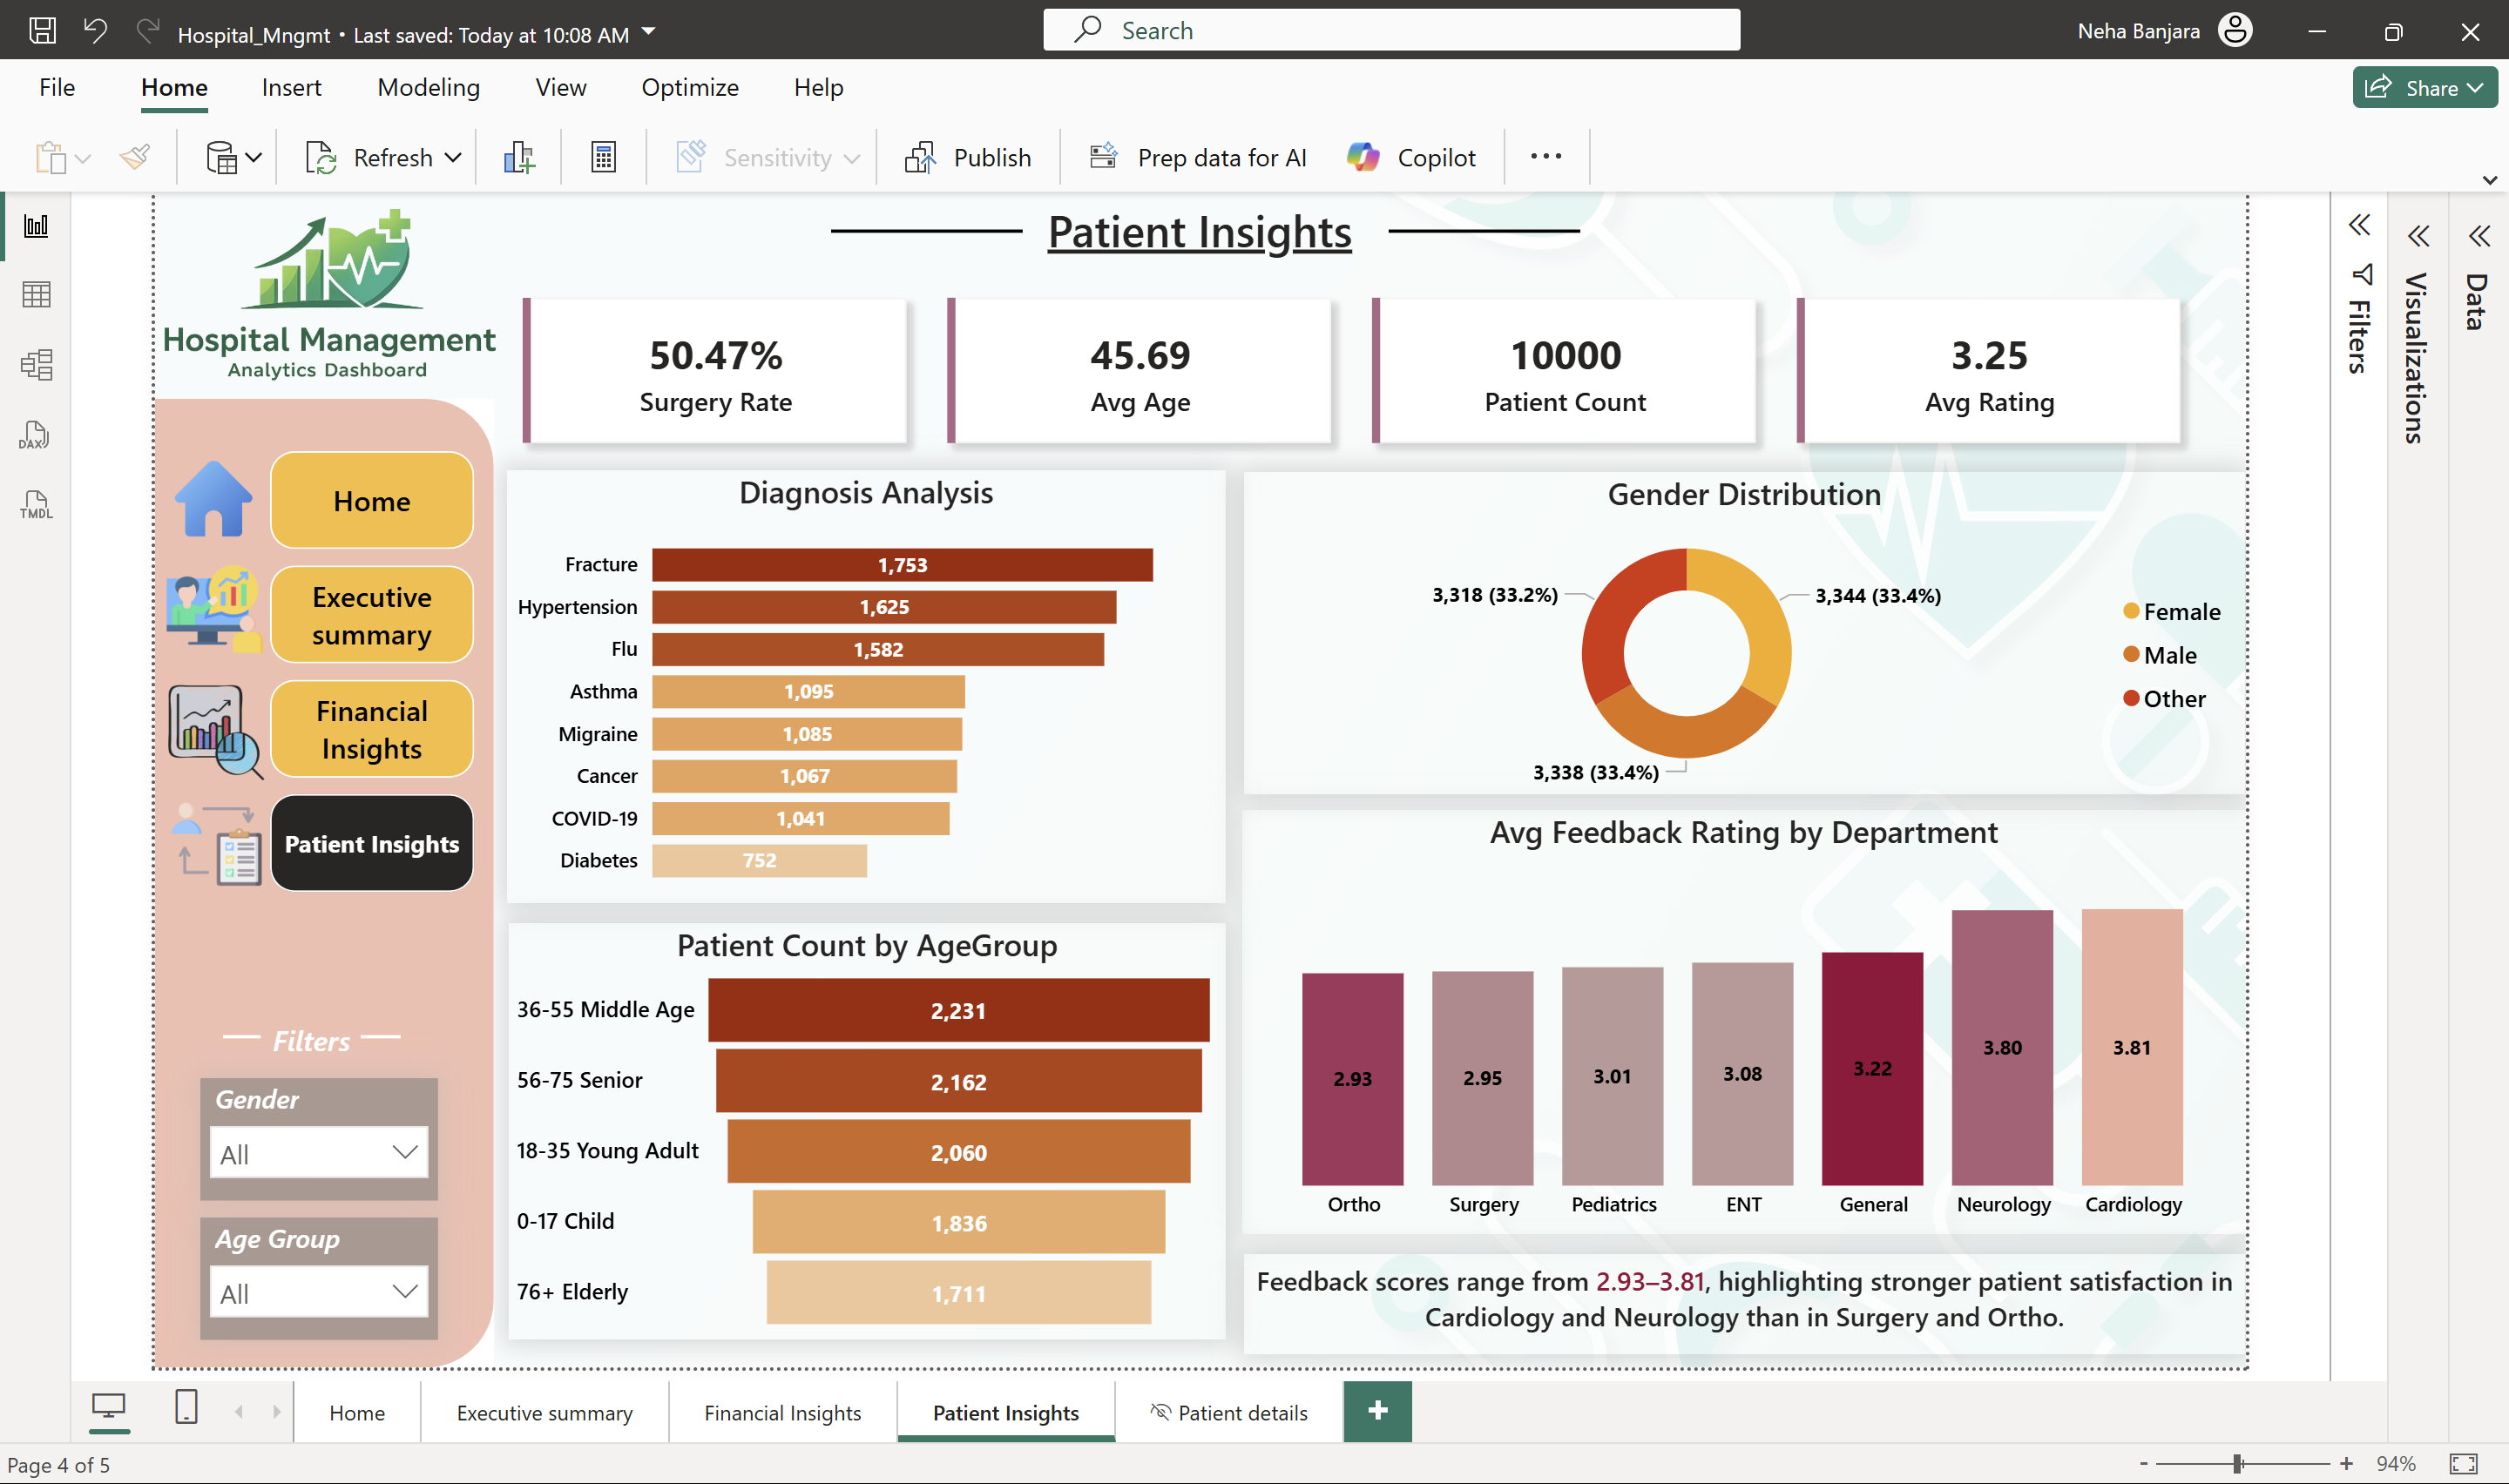

This screenshot's page, from the dashboard's own definition file:
{"tool":"powerbi","page":{"name":"Patient Insights","canvas":[1280,720],"ordinal":3},"visuals":[{"type":"clusteredBarChart","title":"Diagnosis Analysis","fields":{"Category":["hospital_management.Diagnosis"],"Y":["Measures_table.Patient Count"]},"box":[215.5,170.8,439.8,265.2],"z":0},{"type":"shape","box":[0,126.7,207.4,593.3],"z":1000,"group":"g3"},{"type":"columnChart","title":"Avg Feedback Rating by Department","fields":{"Category":["hospital_management.Department"],"Y":["Avg(hospital_management.FeedbackRating)"]},"box":[665.5,378.6,614.5,260.1],"z":2000},{"type":"slicer","fields":{"Values":["hospital_management.AgeGroup"]},"box":[27.4,627.8,145.4,74.9],"z":3000,"group":"g3"},{"type":"slicer","fields":{"Values":["hospital_management.Gender"]},"box":[27.4,542.9,145.4,74.9],"z":4000,"group":"g3"},{"type":"cardVisual","fields":{"Data":["Measures_table.Surgery Rate","Measures_table.Average Age","Measures_table.Patient Count","Avg(hospital_management.FeedbackRating)"]},"box":[207.8,48.4,1049.2,123.7],"z":5000},{"type":"funnel","fields":{"Category":["hospital_management.AgeGroup"],"Y":["Measures_table.Patient Count"]},"box":[216,447.8,439.2,254.9],"z":6000},{"type":"group","id":"g1","title":"Group 2","box":[1.4,158.4,194.4,270.7],"z":7000,"group":"g3"},{"type":"textbox","box":[264.9,0,750.2,64.8],"z":8000},{"type":"shape","box":[20.2,501.5,151.2,36],"z":8000,"group":"g2"},{"type":"donutChart","title":"Gender Distribution","fields":{"Category":["hospital_management.Gender"],"Y":["Measures_table.Patient Count"]},"box":[666.8,172.1,613.2,197.6],"z":9000},{"type":"textbox","box":[666.5,651,613.1,61.4],"z":10000},{"type":"image","box":[0,0,216,122.4],"z":11000},{"type":"shape","box":[754.7,0,117.3,48.4],"z":12000},{"type":"shape","box":[414.3,0,117.3,48.4],"z":13000},{"type":"pageNavigator","box":[70.5,158.4,125.3,270.7],"z":13000,"group":"g1"},{"type":"image","box":[1.4,226.1,70.6,59],"z":14000,"group":"g1"},{"type":"group","id":"g2","title":"Group 1","box":[20.2,498.2,151.2,39.3],"z":14000,"group":"g3"},{"type":"group","id":"g3","title":"Group 3","box":[0,126.7,207.4,593.3],"z":14001},{"type":"image","box":[2.8,164.2,67.7,47.5],"z":15000,"group":"g1"},{"type":"image","box":[2.8,370.1,70.6,59],"z":16000,"group":"g1"},{"type":"image","box":[2.8,301,70.6,59],"z":17000,"group":"g1"},{"type":"shape","box":[125.3,498.2,24.5,38.9],"z":19000,"group":"g2"},{"type":"shape","box":[41.8,498.2,23,38.9],"z":20000,"group":"g2"}]}

Visuals, with their boxes on the page's 1280x720 design canvas (x1, y1, x2, y2). These are canvas units, not pixel positions in the 2509x1484 screenshot, which may show the page scaled, cropped or inside an application window:
"Diagnosis Analysis" clusteredBarChart: <bbox>216, 171, 655, 436</bbox>
shape: <bbox>0, 127, 207, 720</bbox>
"Avg Feedback Rating by Department" columnChart: <bbox>666, 379, 1280, 639</bbox>
slicer - hospital_management.AgeGroup: <bbox>27, 628, 173, 703</bbox>
slicer - hospital_management.Gender: <bbox>27, 543, 173, 618</bbox>
cardVisual - Measures_table.Surgery Rate x Measures_table.Average Age: <bbox>208, 48, 1257, 172</bbox>
funnel - hospital_management.AgeGroup x Measures_table.Patient Count: <bbox>216, 448, 655, 703</bbox>
"Group 2" group: <bbox>1, 158, 196, 429</bbox>
textbox: <bbox>265, 0, 1015, 65</bbox>
shape: <bbox>20, 502, 171, 538</bbox>
"Gender Distribution" donutChart: <bbox>667, 172, 1280, 370</bbox>
textbox: <bbox>666, 651, 1280, 712</bbox>
image: <bbox>0, 0, 216, 122</bbox>
shape: <bbox>755, 0, 872, 48</bbox>
shape: <bbox>414, 0, 532, 48</bbox>
pageNavigator: <bbox>70, 158, 196, 429</bbox>
image: <bbox>1, 226, 72, 285</bbox>
"Group 1" group: <bbox>20, 498, 171, 538</bbox>
"Group 3" group: <bbox>0, 127, 207, 720</bbox>
image: <bbox>3, 164, 70, 212</bbox>
image: <bbox>3, 370, 73, 429</bbox>
image: <bbox>3, 301, 73, 360</bbox>
shape: <bbox>125, 498, 150, 537</bbox>
shape: <bbox>42, 498, 65, 537</bbox>
